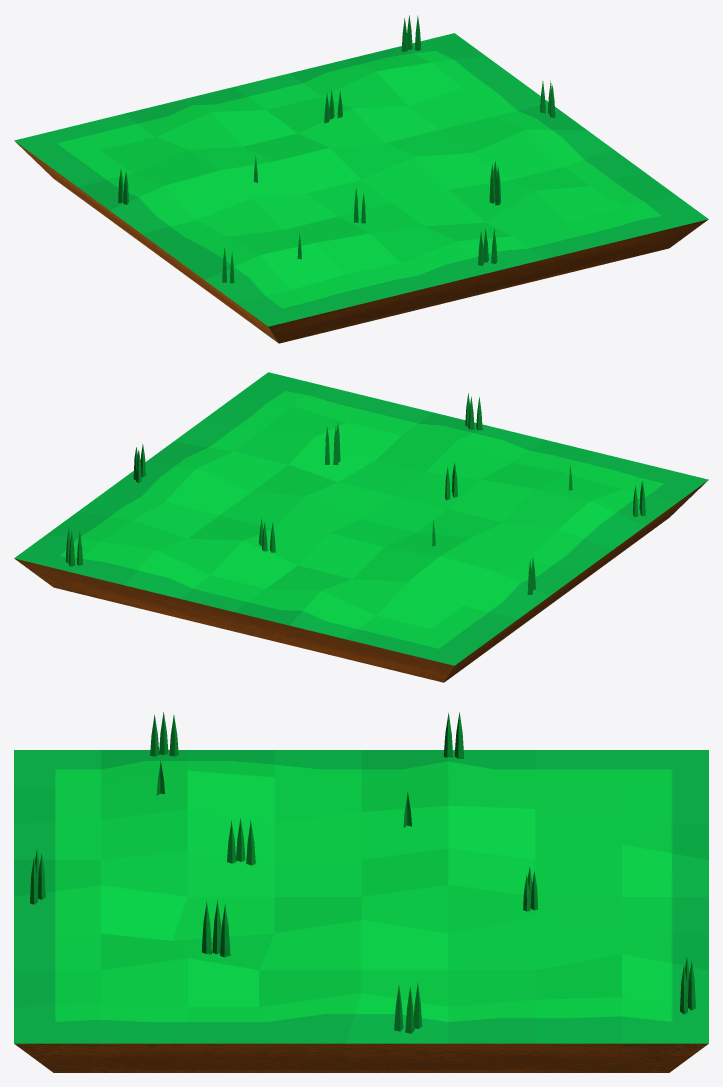
Rendered from grassvariation1.fbx.
3 renders of one model, top to bottom at view 1: azimuth 30°, elevation 25°; view 2: azimuth 150°, elevation 25°; view 3: azimuth 270°, elevation 25°, orthographic. The views are drawn at different scales.
Visible parts, largest first — view 1: pCube1; view 2: pCube1; view 3: pCube1, group4.
Part boxes in pixels (bbox=[...]): pCube1: bbox=[14, 33, 708, 343]; pCube1: bbox=[14, 372, 708, 682]; pCube1: bbox=[14, 750, 708, 1072]; group4: bbox=[156, 761, 411, 861].
Size of the model in its own units: 97.93 by 14.79 by 97.93.
3 materials, 2 textured.
